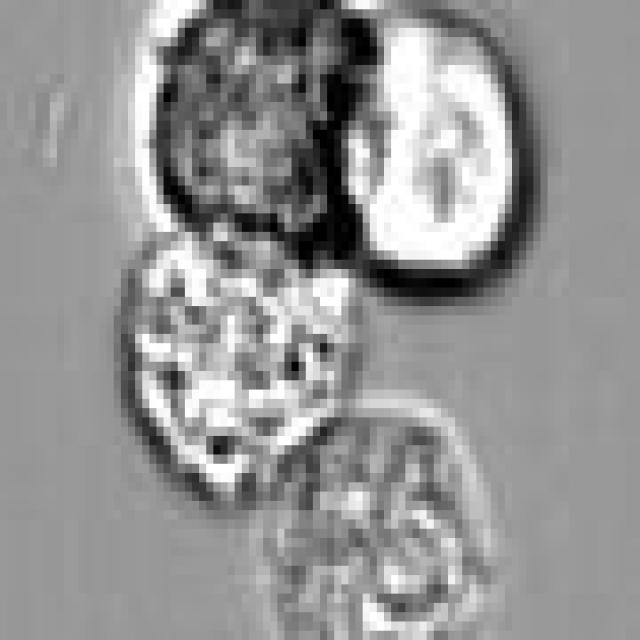WBC: (135, 223, 341, 492), (163, 9, 377, 260), (270, 408, 498, 640), (334, 9, 526, 269)
